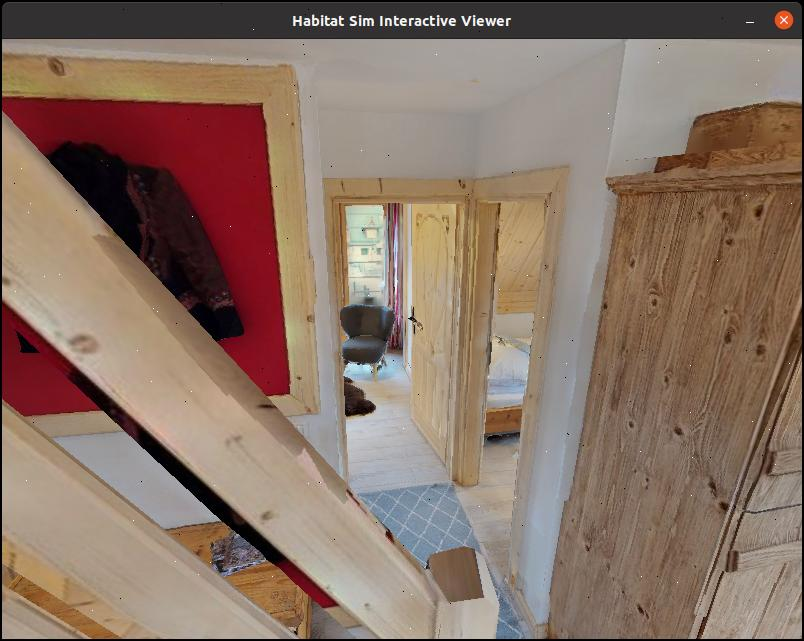door-frame: (327, 185, 478, 496), (447, 181, 550, 545)
